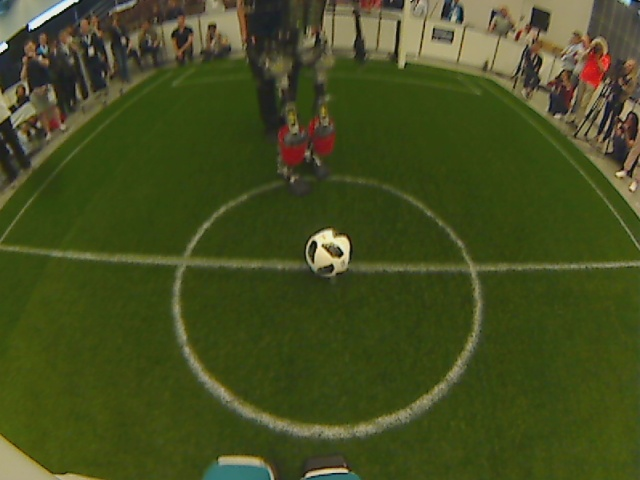ball: (301, 226, 355, 277)
